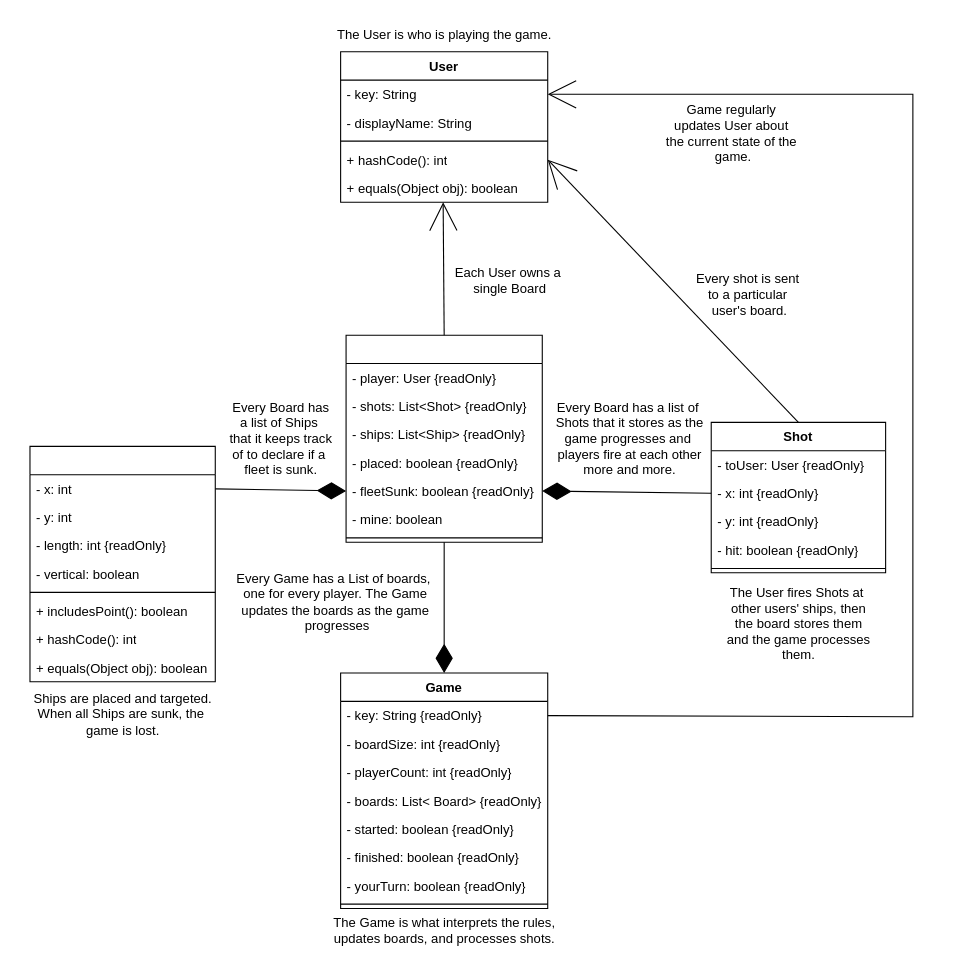
The diagram is 960 pixels wide and 970 high, and some of its shapes have lost their labels. Here are the shapes that lost their labels. From the top down, the box of each, then its label:
(345, 334, 542, 542): Board
(29, 445, 215, 682): Ship
